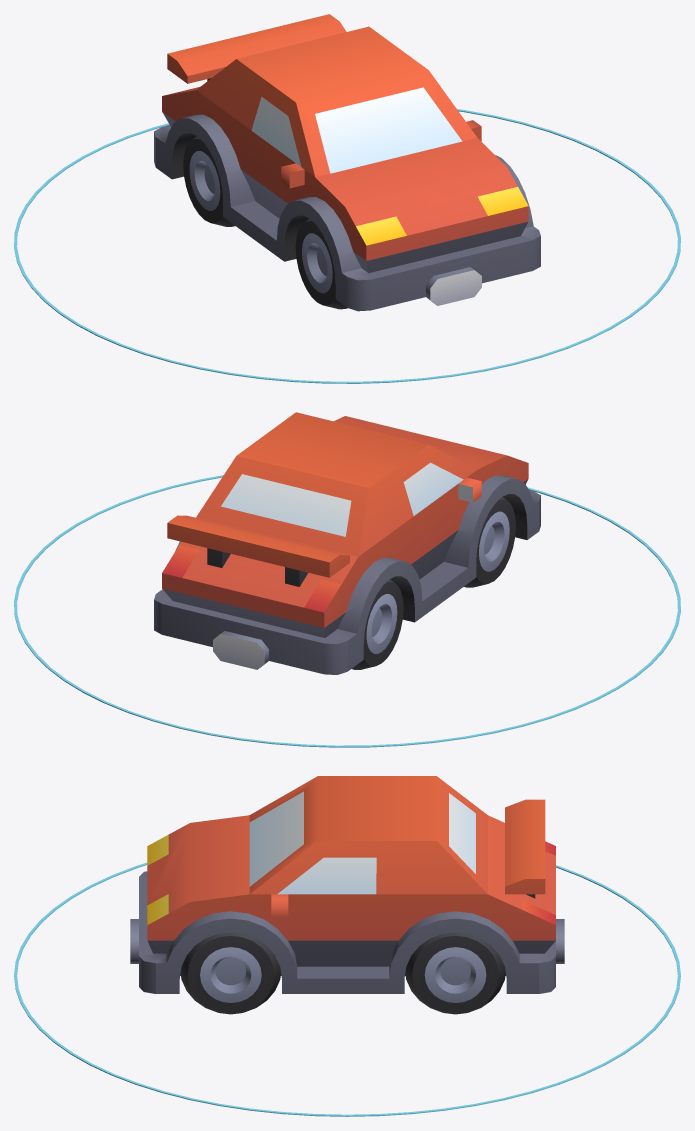
Rendered from sedan-sports.glb.
3 views of the same model, one above another, from view 1: azimuth 30°, elevation 25°; view 2: azimuth 150°, elevation 25°; view 3: azimuth 270°, elevation 25° (orthographic).
Visible parts, largest first — view 1: body, spoiler, wheel-front-right, wheel-back-right; view 2: body, spoiler, wheel-back-right, wheel-front-right; view 3: body, wheel-front-left, wheel-back-left, spoiler.
Part boxes in pixels (left/top/right/bottom): body: left=154, top=26, right=540, bottom=311; spoiler: left=167, top=14, right=346, bottom=83; wheel-front-right: left=295, top=218, right=347, bottom=309; wheel-back-right: left=183, top=136, right=234, bottom=226; body: left=154, top=412, right=540, bottom=674; spoiler: left=167, top=515, right=349, bottom=586; wheel-back-right: left=352, top=579, right=403, bottom=669; wheel-front-right: left=464, top=496, right=515, bottom=587; body: left=130, top=776, right=564, bottom=993; wheel-front-left: left=180, top=932, right=280, bottom=1014; wheel-back-left: left=405, top=932, right=505, bottom=1014; spoiler: left=505, top=799, right=545, bottom=898.
Size of the model in its own units: 3.92 by 1.1 by 3.92.
2 materials, 1 textured.
